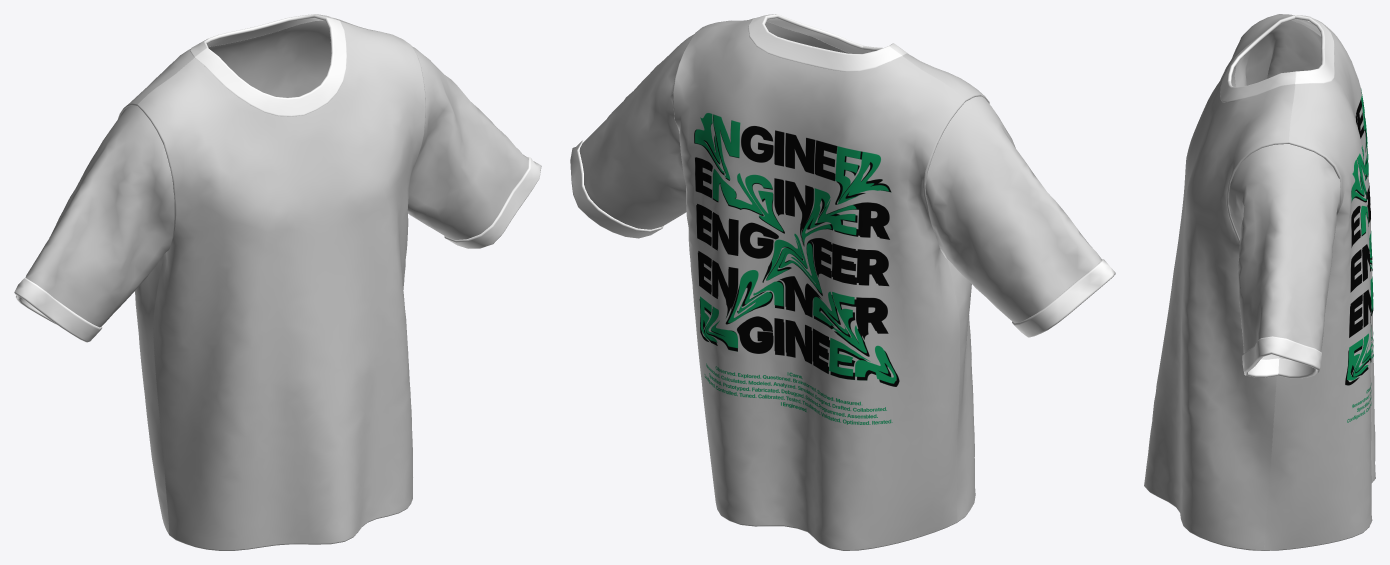
The model's file is engineer.glb.
The picture shows the model from 3 angles, left to right: view 1: azimuth 30°, elevation 25°; view 2: azimuth 150°, elevation 25°; view 3: azimuth 270°, elevation 25°; orthographic projection. The views are drawn at different scales.
Visible parts, largest first — view 1: enginneer; view 2: enginneer; view 3: enginneer.
Part boxes in pixels (x1,y1,x2,y2): enginneer: [14, 14, 541, 550]; enginneer: [570, 14, 1115, 550]; enginneer: [1144, 14, 1375, 550].
Size of the model in its own units: 0.8474 by 0.7174 by 0.3294.
3 materials, 1 textured.
